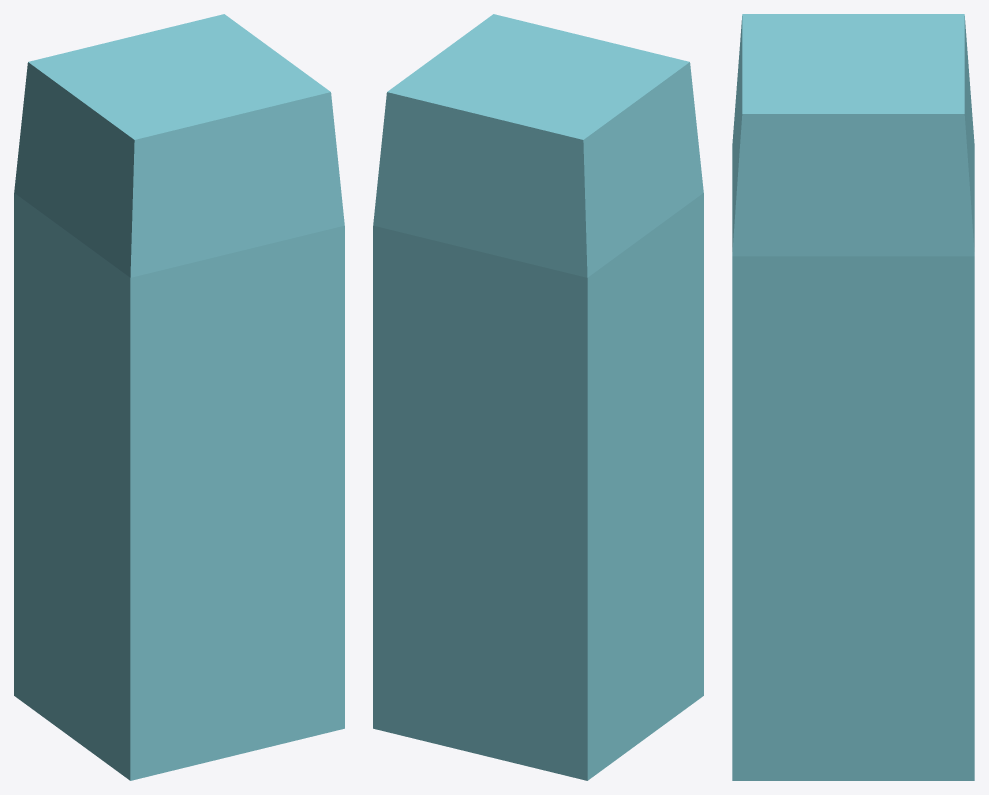
3 renders of one model, left to right at view 1: azimuth 30°, elevation 25°; view 2: azimuth 150°, elevation 25°; view 3: azimuth 270°, elevation 25°, orthographic. The views are drawn at different scales.
Parts seen in each view (by area): view 1: b02:headusOBJexport; view 2: b02:headusOBJexport; view 3: b02:headusOBJexport.
Boxes of the visible parts, left/top/right/bottom form: b02:headusOBJexport: left=14, top=14, right=344, bottom=780; b02:headusOBJexport: left=373, top=14, right=703, bottom=780; b02:headusOBJexport: left=732, top=14, right=974, bottom=780.
Bounding box in the file's own units: 5.87 × 16.64 × 5.52.
